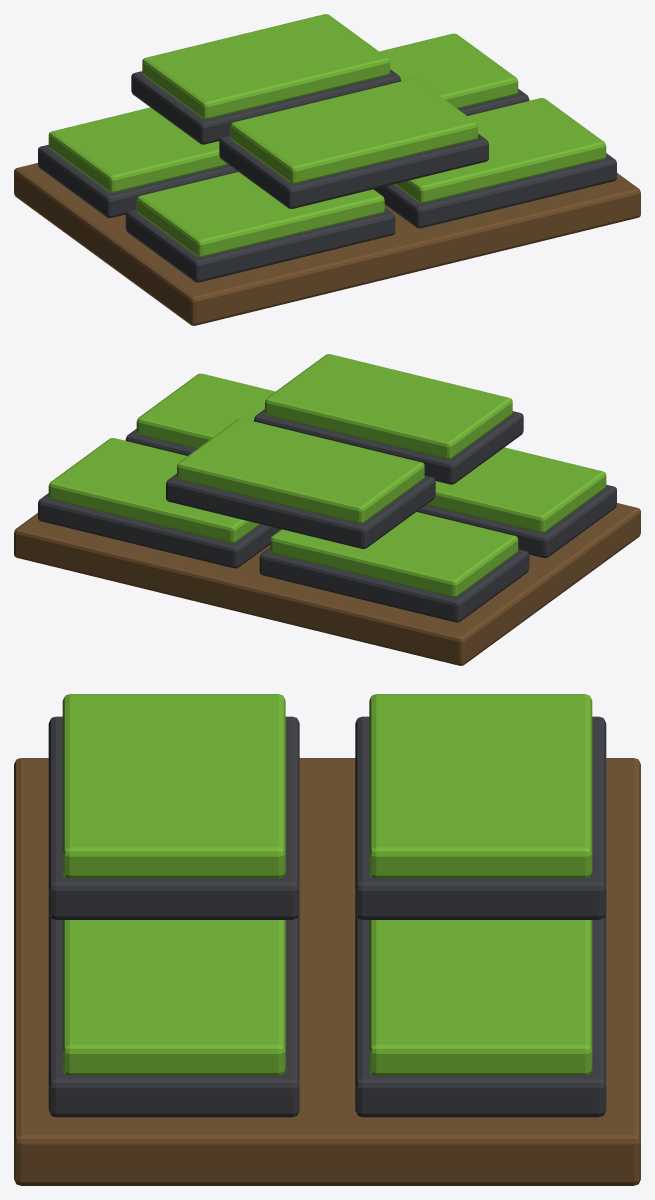
File: seedtray.glb
3 renders of one model, top to bottom at view 1: azimuth 30°, elevation 25°; view 2: azimuth 150°, elevation 25°; view 3: azimuth 270°, elevation 25°, orthographic. The views are drawn at different scales.
Parts seen in each view (by area): view 1: Cube, Cube.010, Cube.012, Cube.002, Cube.006, Cube.004, Cube.001, Cube.009, Cube.008, Cube.005, Cube.011, Cube.003 (+1 smaller); view 2: Cube, Cube.012, Cube.010, Cube.004, Cube.008, Cube.002, Cube.003, Cube.011, Cube.006, Cube.007, Cube.009, Cube.001 (+1 smaller); view 3: Cube, Cube.010, Cube.012, Cube.006, Cube.008, Cube.005, Cube.007, Cube.009, Cube.011.
Part boxes in pixels (x1,y1,x2,y2): Cube: (14, 163, 640, 325); Cube.010: (230, 78, 477, 183); Cube.012: (142, 14, 389, 119); Cube.002: (136, 172, 384, 257); Cube.006: (394, 98, 606, 203); Cube.004: (48, 107, 228, 192); Cube.001: (125, 207, 395, 282); Cube.009: (219, 133, 488, 208); Cube.008: (379, 33, 518, 108); Cube.005: (374, 153, 616, 228); Cube.011: (131, 69, 400, 144); Cube.003: (38, 144, 237, 218); Cube: (14, 503, 640, 665); Cube.012: (177, 418, 424, 523); Cube.010: (265, 354, 512, 459); Cube.004: (270, 512, 518, 597); Cube.008: (48, 438, 260, 543); Cube.002: (426, 447, 606, 532); Cube.003: (259, 547, 529, 622); Cube.011: (166, 473, 435, 548); Cube.006: (136, 373, 275, 448); Cube.007: (38, 493, 280, 568); Cube.009: (254, 409, 523, 484); Cube.001: (417, 484, 616, 558); Cube: (14, 758, 640, 1185); Cube.010: (62, 694, 285, 878); Cube.012: (369, 694, 592, 878); Cube.006: (62, 920, 285, 1075); Cube.008: (369, 920, 592, 1075); Cube.005: (48, 917, 299, 1117); Cube.007: (355, 917, 606, 1117); Cube.009: (48, 716, 299, 919); Cube.011: (355, 716, 606, 919).
Size of the model in its own units: 1.3 by 0.335 by 0.9.
